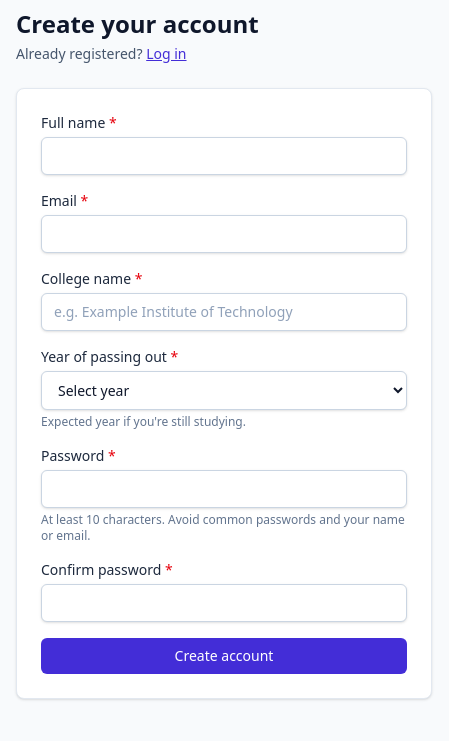
Test: RegisterPage › puts backend field errors next to the right field
The width and height of the screenshot is (449, 741).
Type "Casey Example" into the field labelled "Full name *". click: (224, 156)
box: [41,137,407,175]
Type "casey@example.com" into the field labelled "Email *". click: (224, 234)
box: [41,215,407,253]
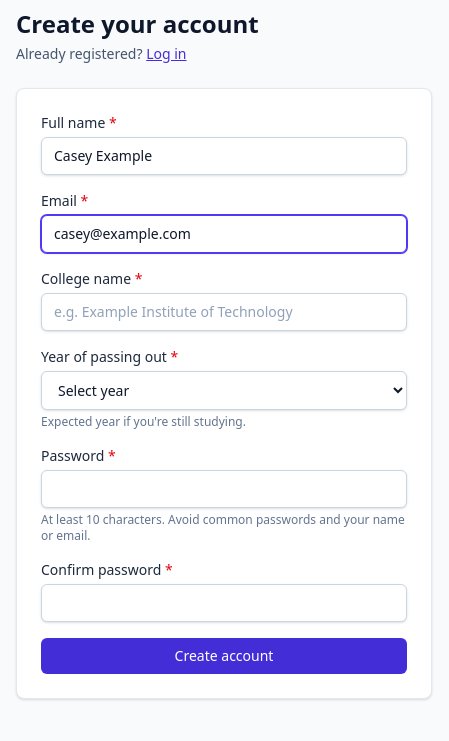
Type "Long-Enough-Pass-1" into the password field labelled "Password *". click: (224, 489)
box: [41,470,407,508]
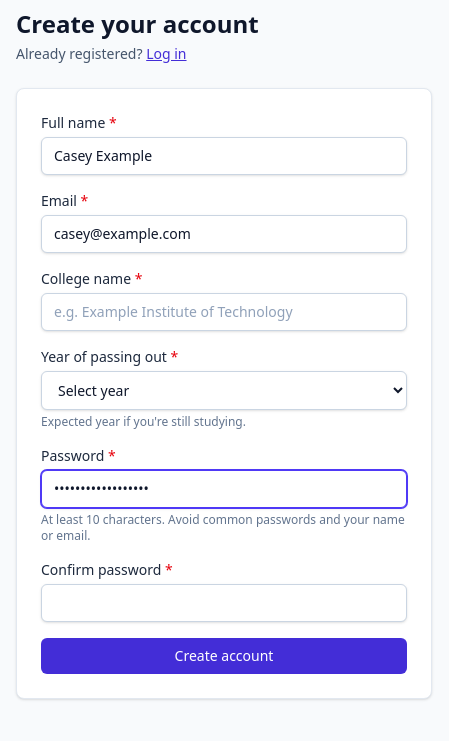
Type "Long-Enough-Pass-1" into the password field labelled "Confirm password *". click: (224, 603)
box: [41,584,407,622]
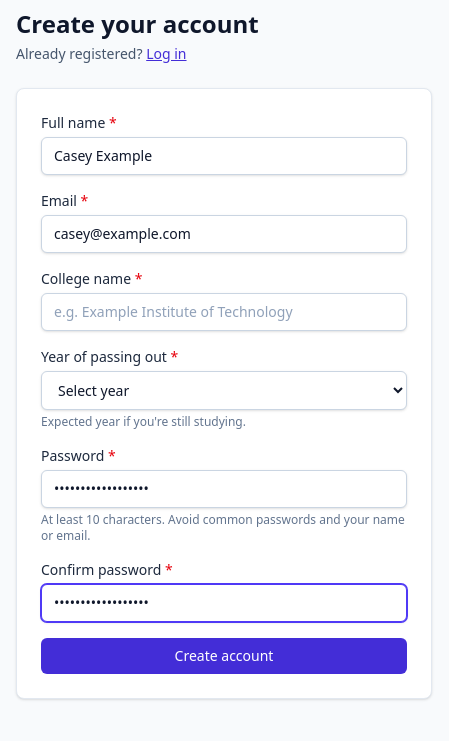
Type "Example Institute of Technology" into the field labelled "College name *". click: (224, 312)
box: [41,293,407,331]
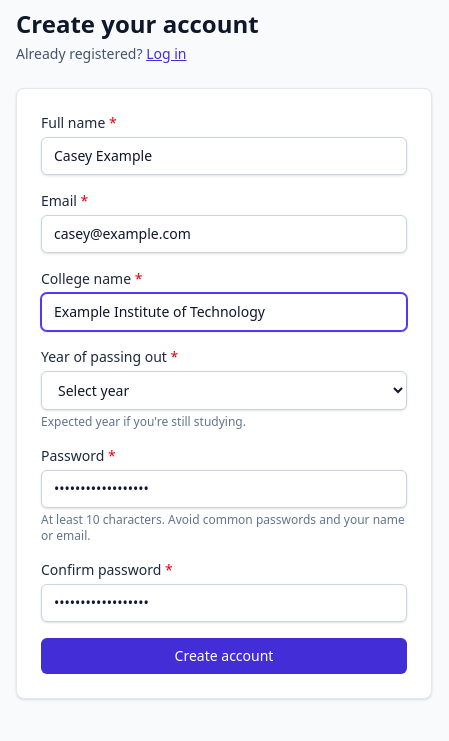
Select "2025" in the dropdown labelled "Year of passing out *". click: (224, 390)
box: [41,371,407,410]
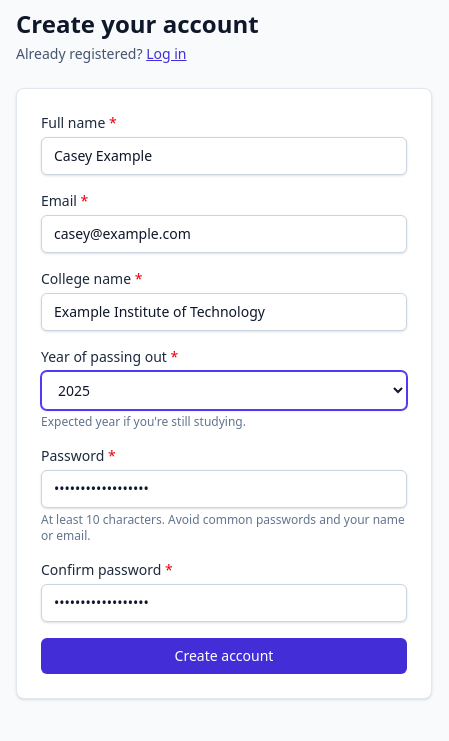
Click the button "Create account". click: (224, 656)
box: [41,638,407,674]
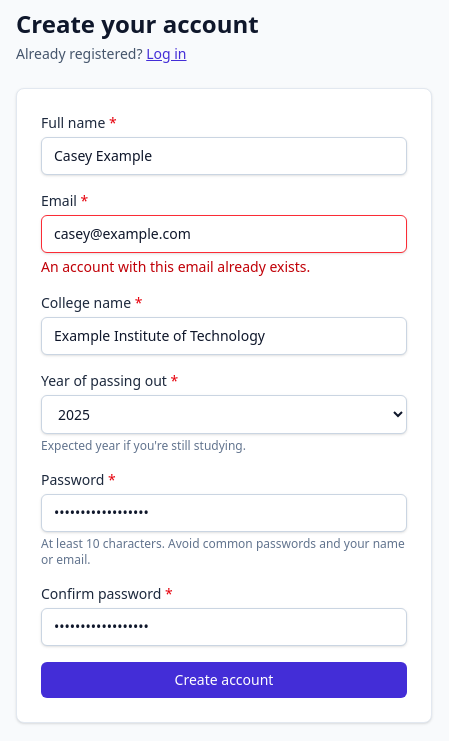
expect the text "An account with this email already exists." is shown: met, box [41,257,310,276]
